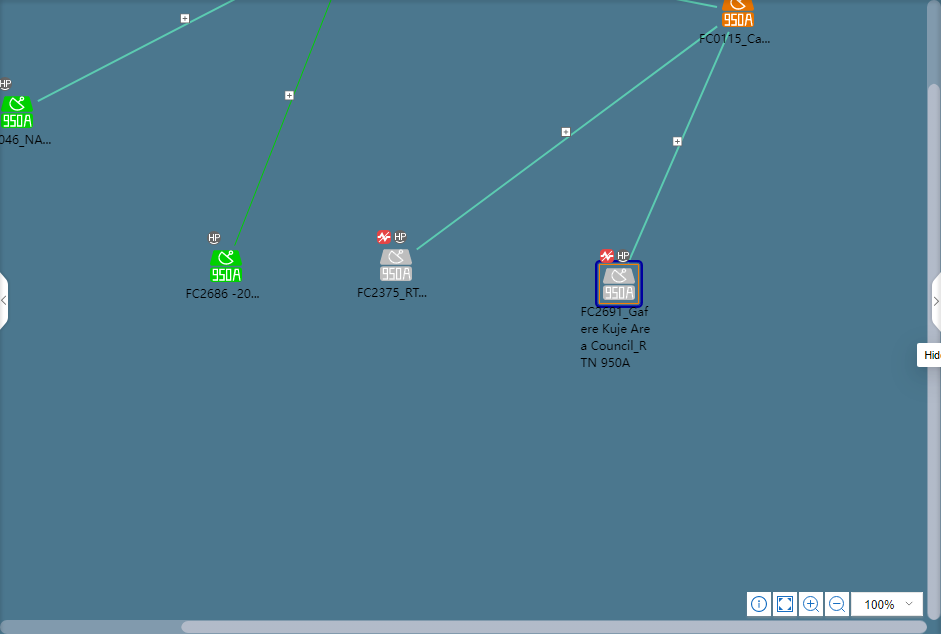Link_Blue: (415, 26, 710, 243), (626, 32, 728, 258), (38, 2, 221, 98), (712, 2, 716, 13)
Link_Green: (232, 2, 328, 241)
RTN_Gray: (597, 267, 635, 307), (379, 249, 413, 283)
RTN_Green: (3, 96, 37, 130), (209, 249, 243, 283)
RTN_Orange: (720, 2, 753, 30)
